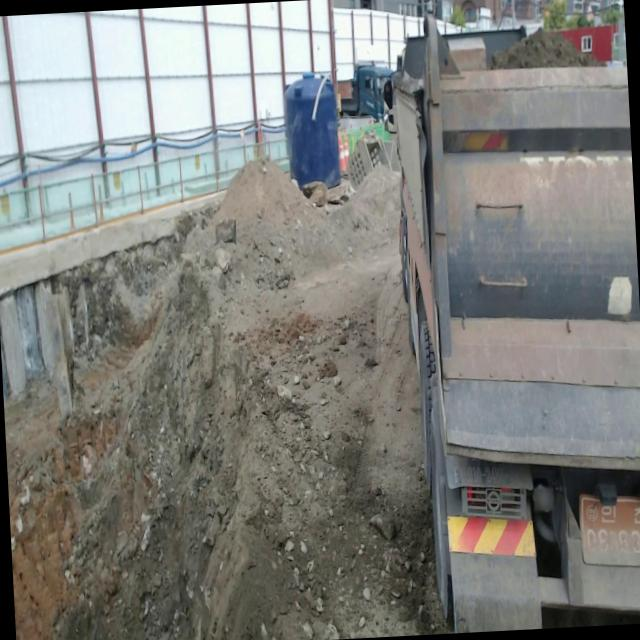cement: (0, 191, 225, 296)
red-sand: (4, 163, 448, 640)
